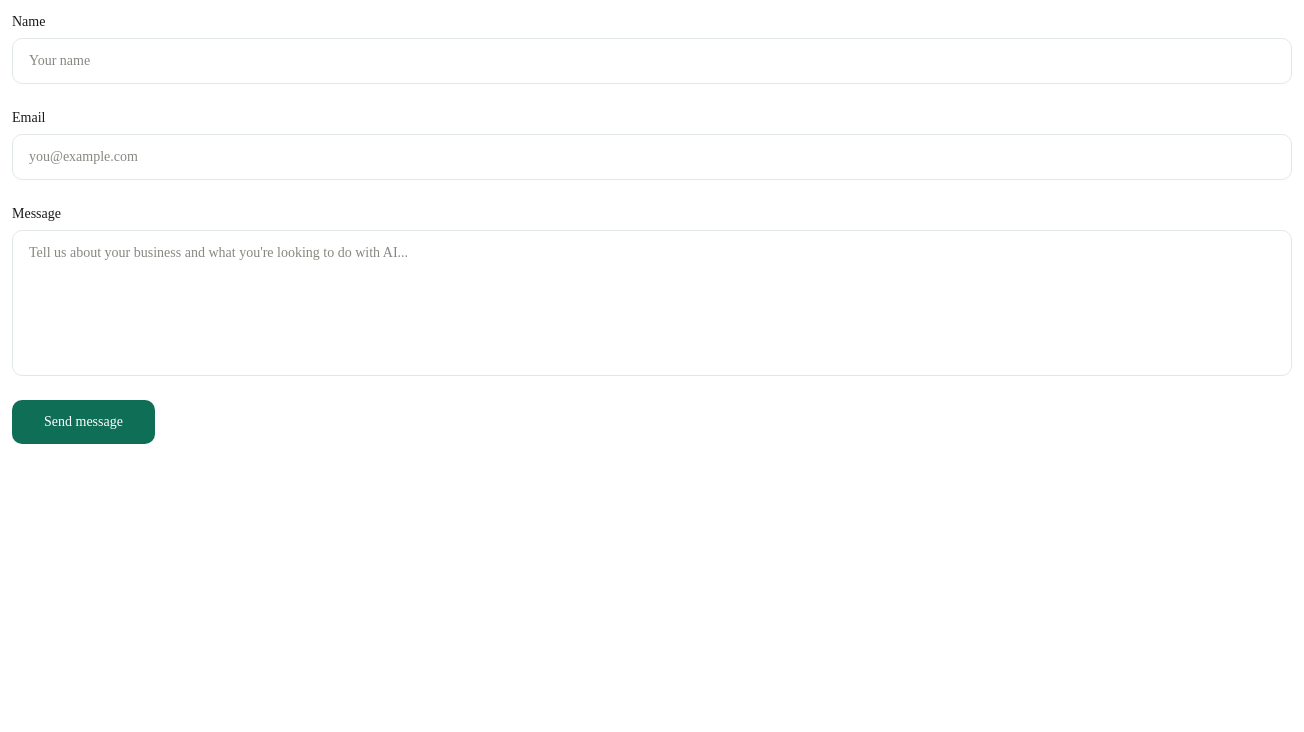
Test case: ContactForm › shows error message when submission fails
Type "Test User" into the field labelled "Name" at [652, 61], box [12,38,1292,84]
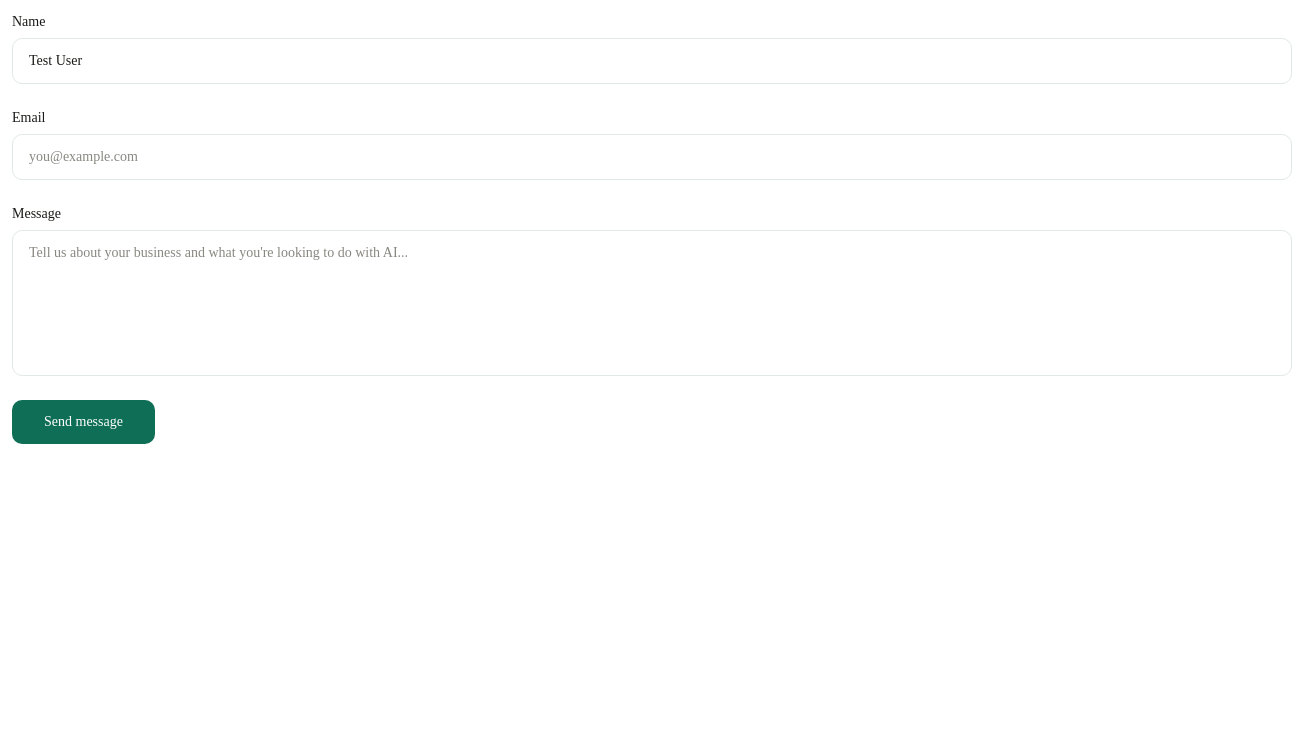
Type "test@example.com" into the field labelled "Email" at [652, 157], box [12,134,1292,180]
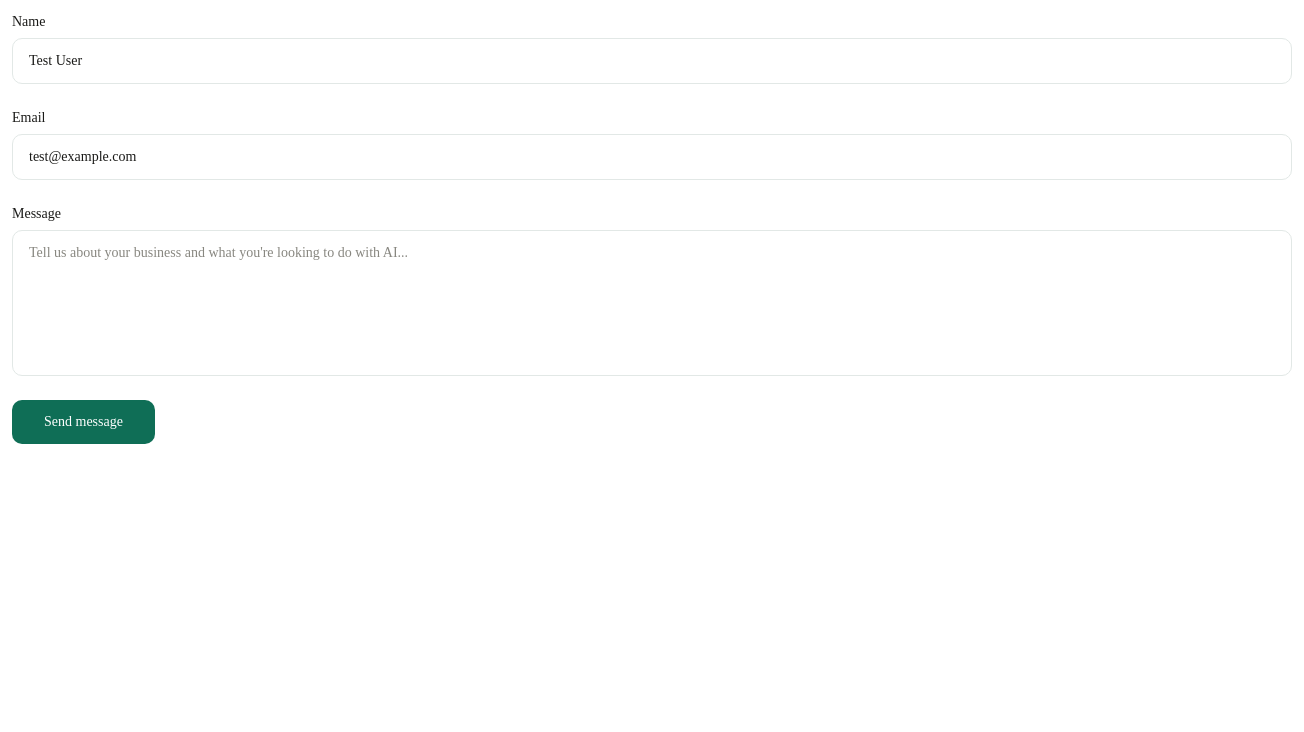
Replace the text in the text box labelled "Message" with "Hello there" at [652, 303], box [12,230,1292,376]
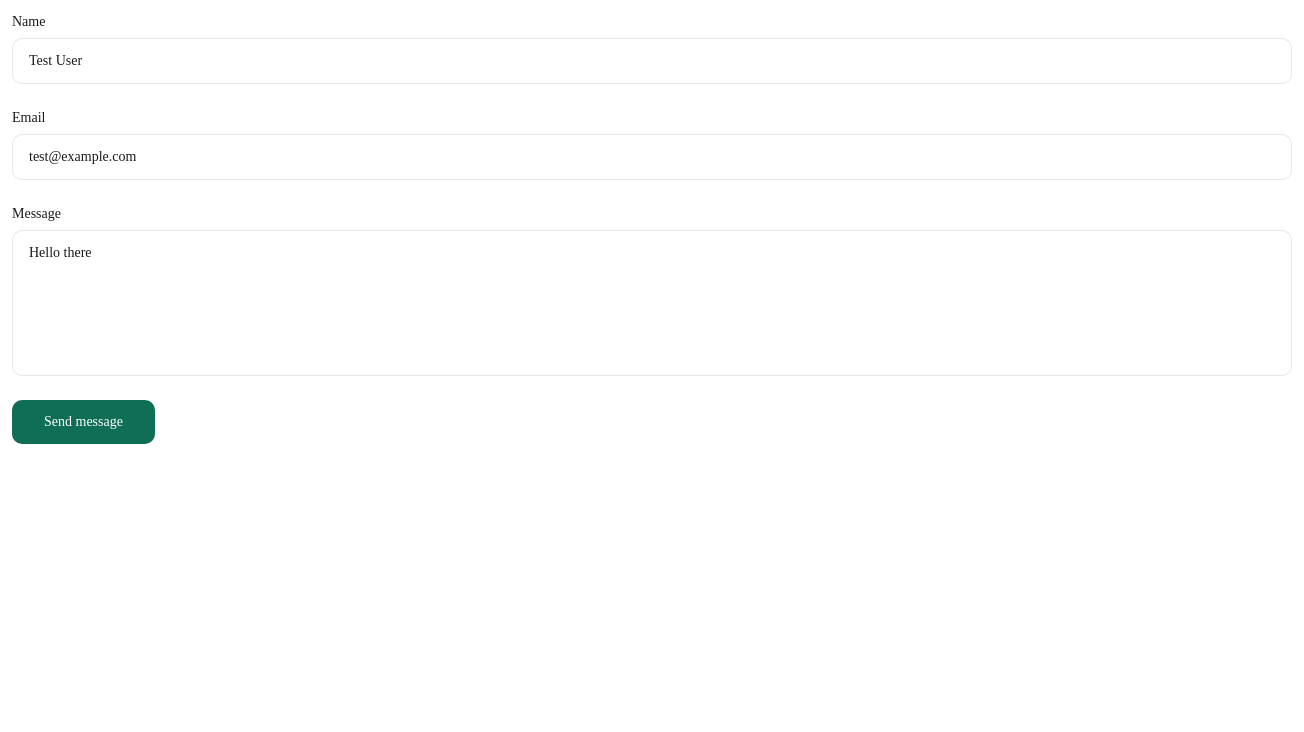
Click the button "Send message" at [83, 422], box [12,400,155,444]
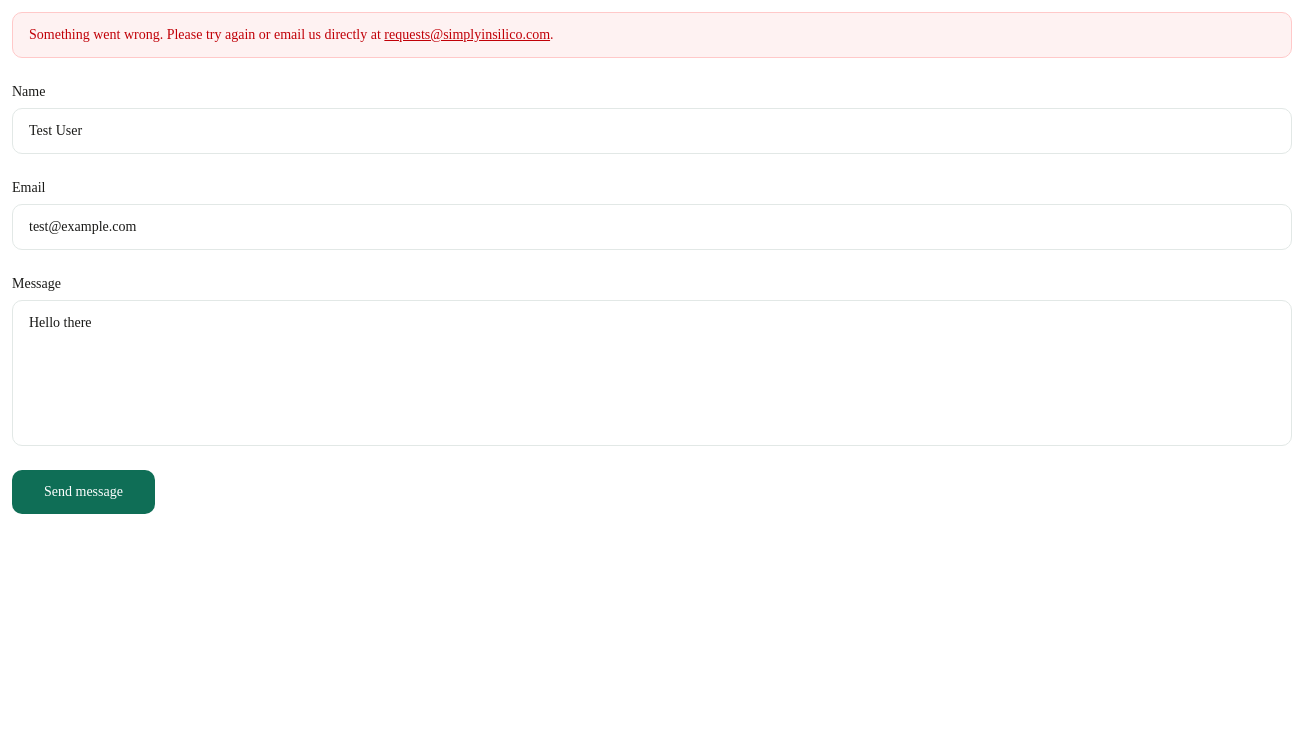
Expected: the text "Something went wrong" is shown, [29,27,381,42]
